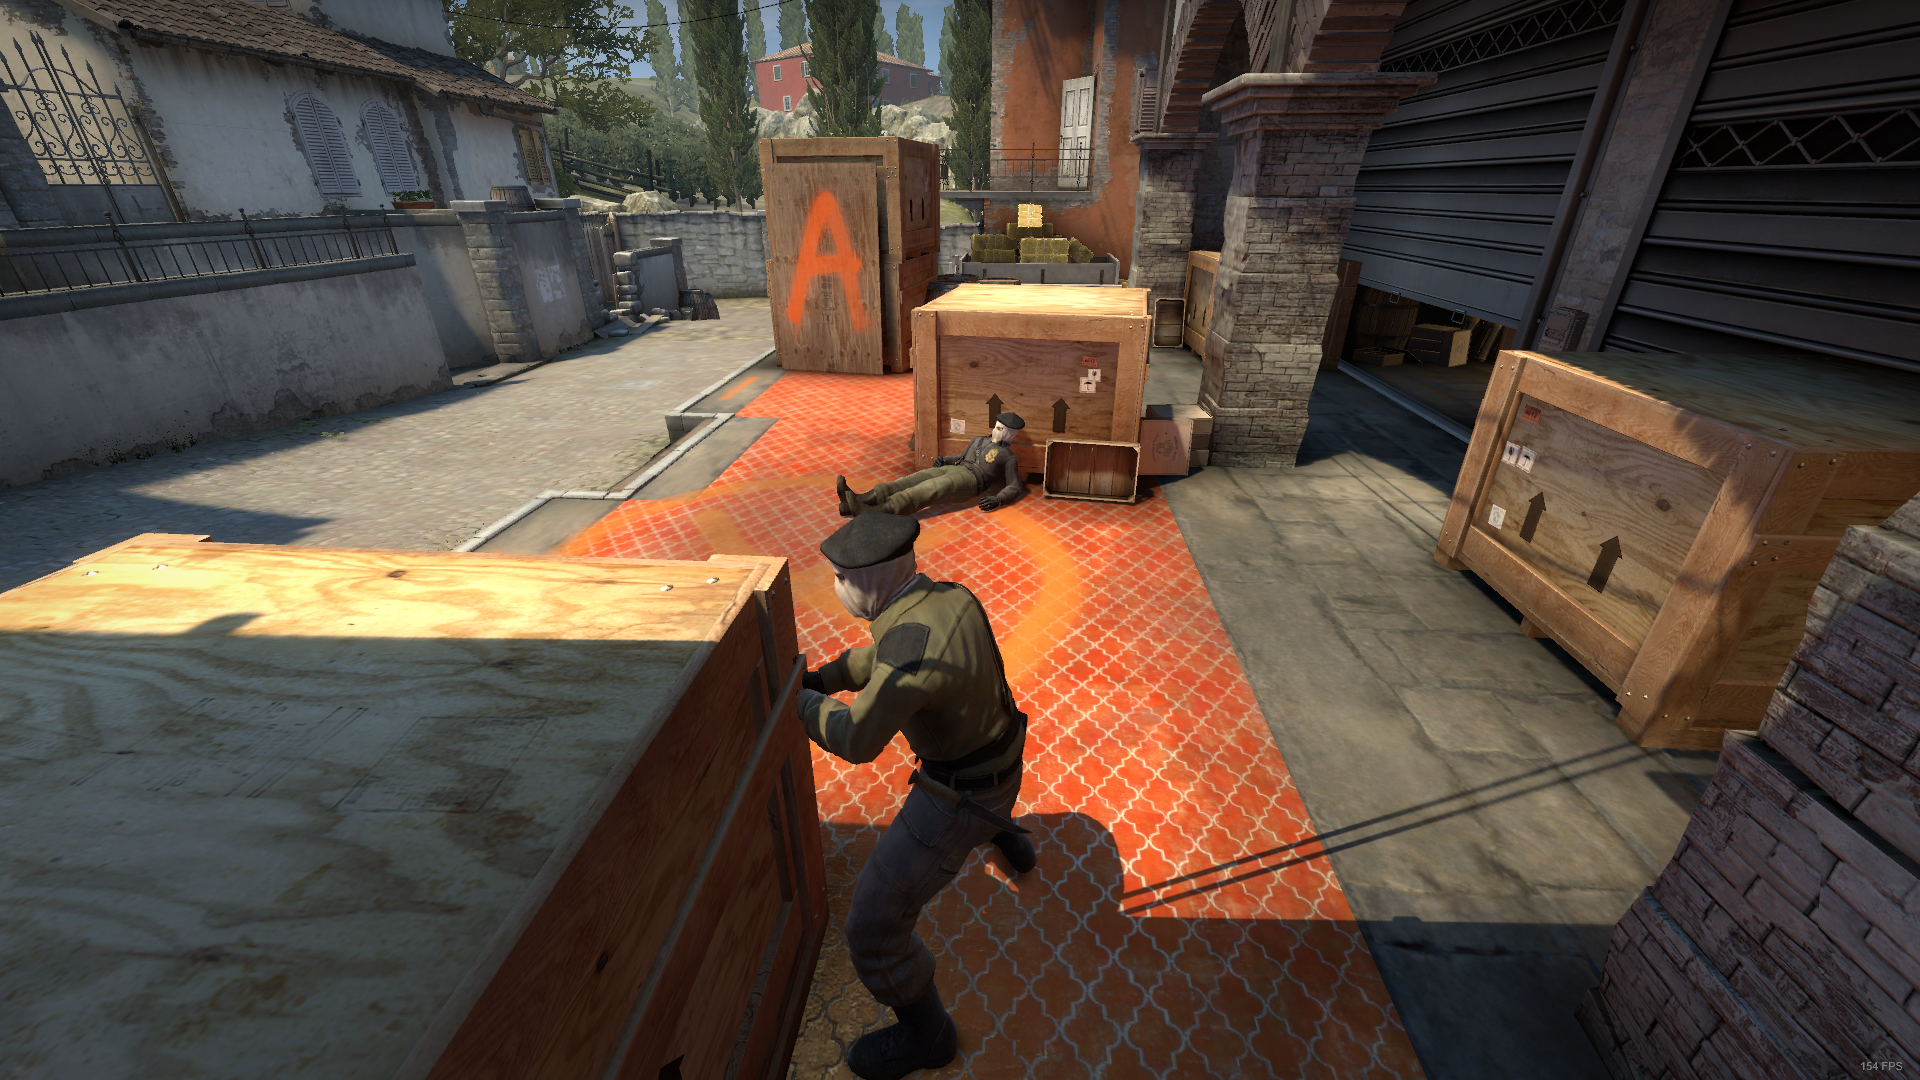t: (795, 512, 1039, 1076), (839, 413, 1025, 518)
